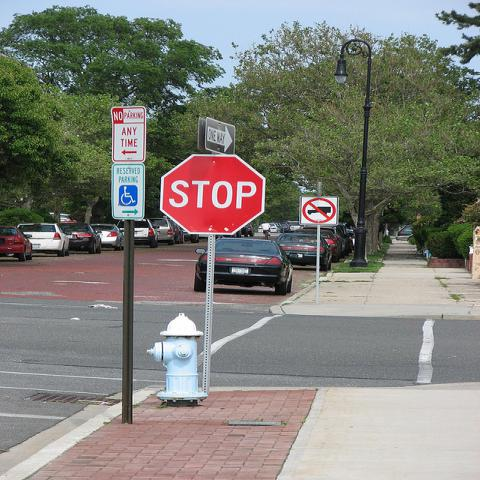car: (189, 234, 295, 297), (275, 233, 332, 272), (17, 223, 73, 259), (288, 226, 342, 263), (298, 225, 354, 258), (59, 222, 103, 254), (117, 218, 160, 248), (0, 226, 33, 262), (88, 223, 126, 251), (149, 218, 176, 246), (395, 225, 412, 241), (258, 223, 278, 233)
